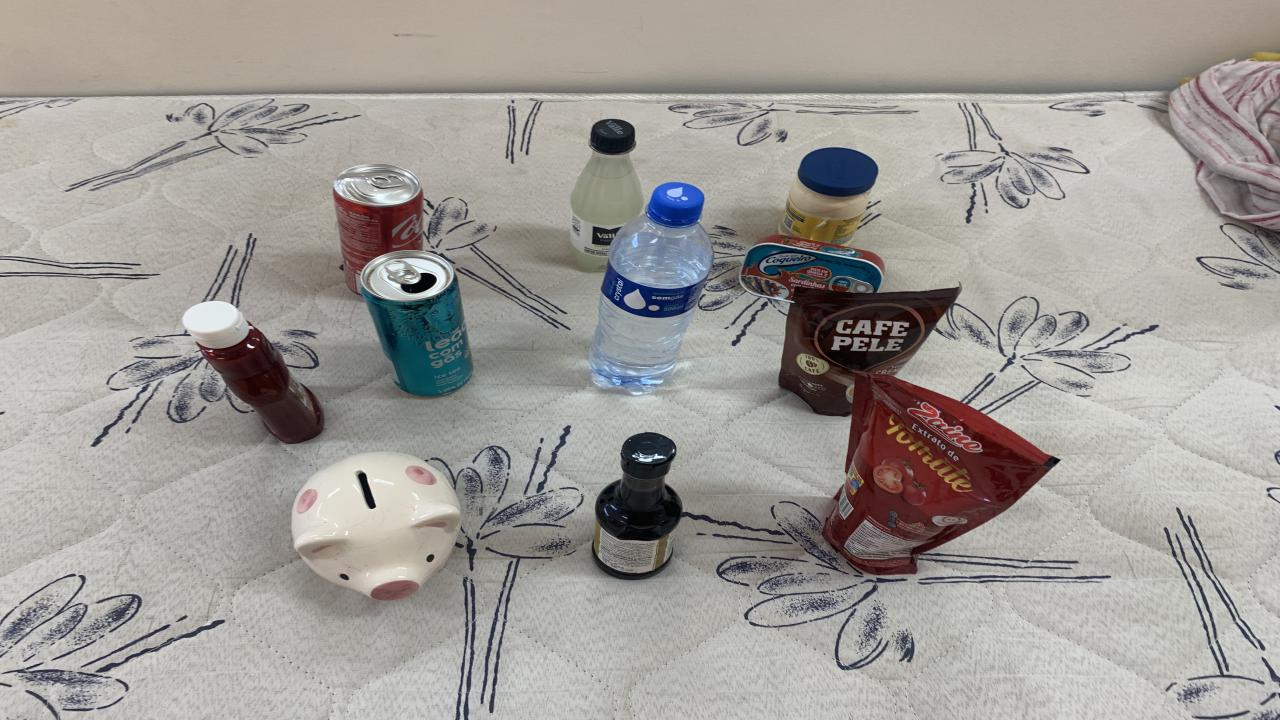Coffee-Pantry_Items: (780, 287, 960, 416)
Coke-Drinks: (332, 165, 422, 292)
English_Sauce-Pantry_Items: (592, 433, 682, 579)
Ketchup-Pantry_Items: (182, 302, 322, 442)
Mayonnaise-Pantry_Items: (778, 148, 878, 246)
Pig_Safe-Miscellaneous: (290, 452, 460, 600)
Soda-Drinks: (570, 118, 645, 272)
Tea-Drinks: (360, 249, 472, 396)
Tomato_Sauce-Pantry_Items: (822, 371, 1058, 576)
Tuna_Can-Pantry_Items: (740, 234, 885, 302)
Water_Bottle-Drinks: (590, 182, 712, 394)
